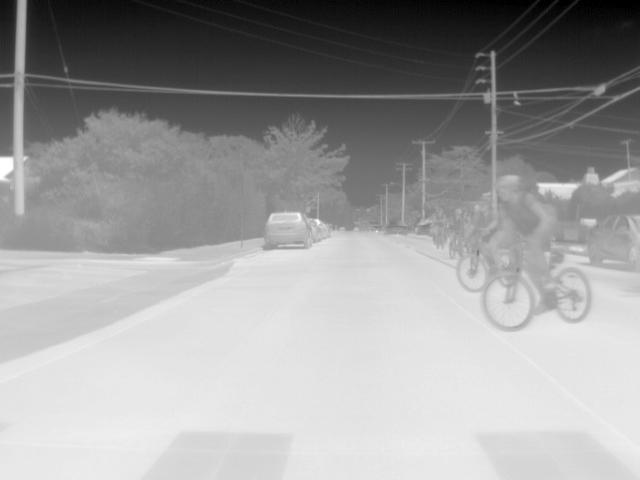car: (585, 212, 640, 272), (263, 210, 316, 250), (386, 220, 410, 236), (308, 220, 324, 242), (314, 219, 331, 239)
person: (490, 171, 560, 313), (468, 195, 503, 253), (448, 206, 468, 243)
